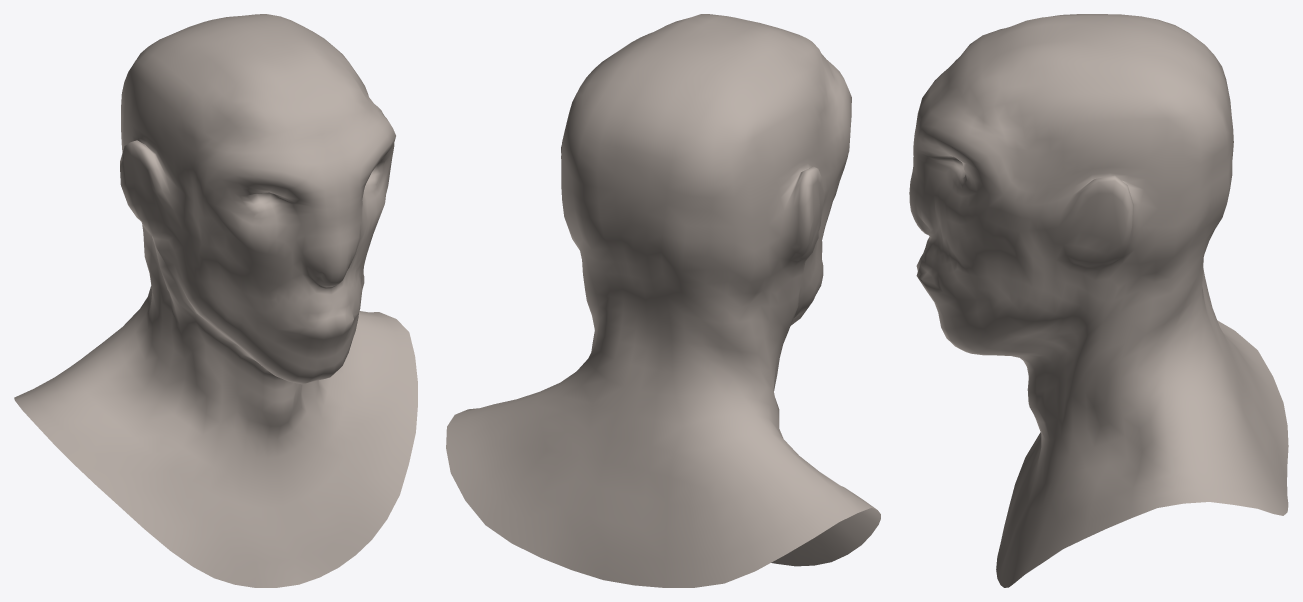
File: head_displace.fbx
3 views of the same model, side by side, from view 1: azimuth 30°, elevation 25°; view 2: azimuth 150°, elevation 25°; view 3: azimuth 270°, elevation 25° (orthographic). The views are drawn at different scales.
Visible parts, largest first — view 1: basicHead; view 2: basicHead; view 3: basicHead.
Boxes of the visible parts, x1,y1,x2,y2 form: basicHead: [14, 14, 417, 587]; basicHead: [446, 14, 880, 587]; basicHead: [909, 14, 1288, 587].
Bounding box in the file's own units: 148 × 195 × 124.
Materials: 1 (1 with a texture image).
